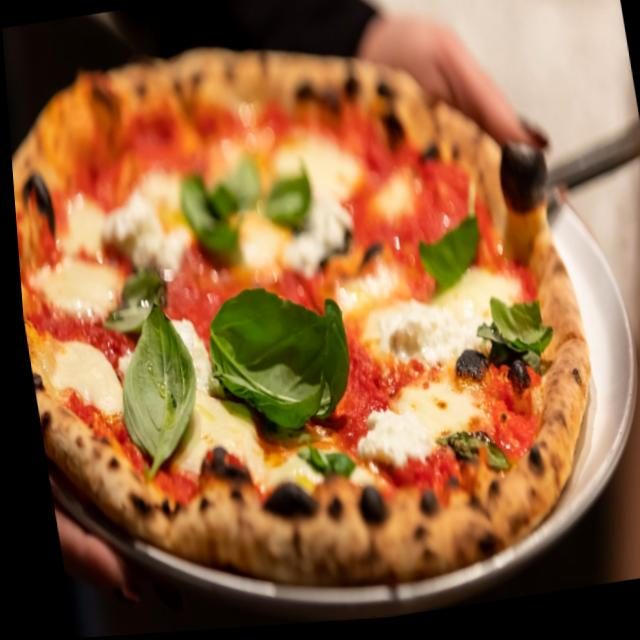pizza: (1, 0, 613, 636)
